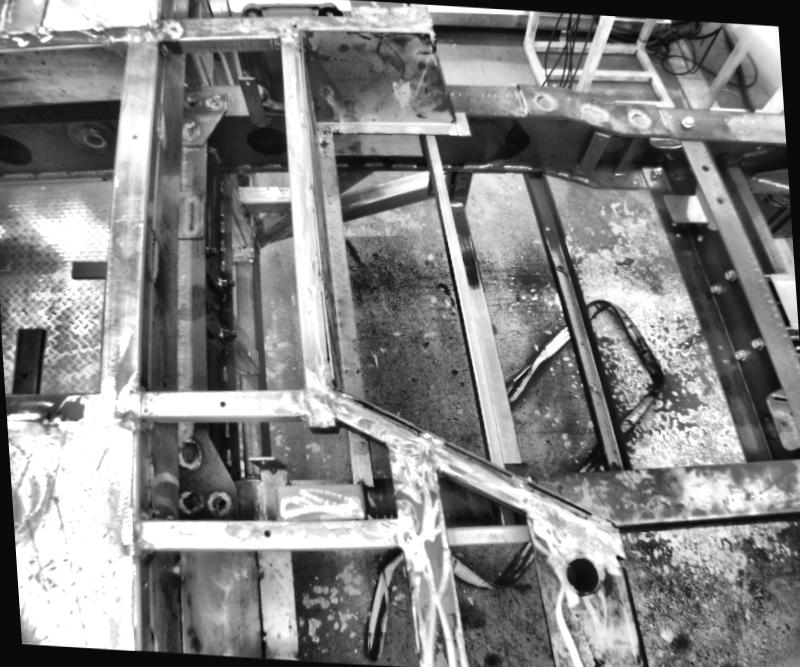bolt: (216, 274, 236, 288), (216, 324, 236, 337), (202, 242, 218, 258), (746, 332, 762, 347), (680, 109, 694, 126), (646, 162, 662, 176), (708, 280, 722, 293), (724, 267, 736, 280), (732, 346, 744, 357)
bracket: (242, 446, 298, 522), (656, 181, 709, 237), (758, 382, 799, 451), (8, 324, 46, 396), (234, 68, 272, 126), (64, 251, 106, 279)
hole: (560, 551, 600, 591), (0, 129, 31, 167), (80, 127, 106, 145), (214, 395, 227, 408), (260, 524, 272, 535), (18, 366, 30, 377), (588, 379, 596, 390), (608, 455, 616, 464), (217, 496, 225, 504), (554, 262, 562, 270), (700, 162, 708, 169), (541, 222, 549, 229), (722, 354, 728, 362), (715, 195, 722, 201), (715, 341, 721, 346), (244, 78, 249, 82), (130, 132, 134, 136), (454, 209, 457, 213)
